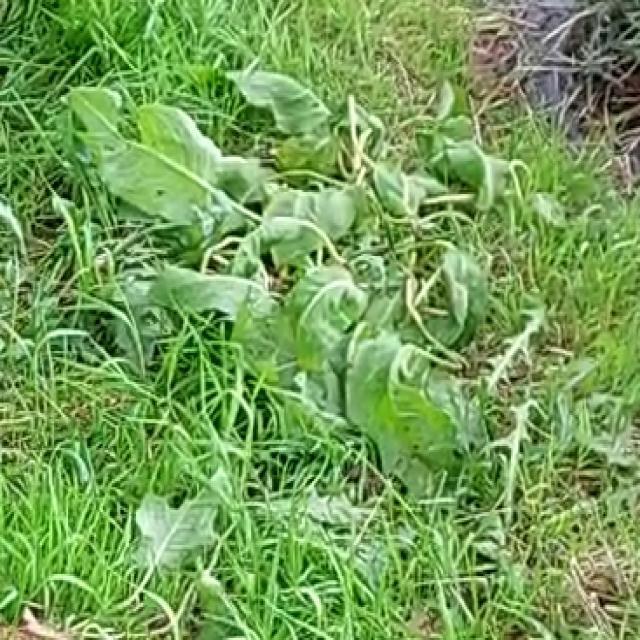organic waste: (91, 52, 572, 487)
